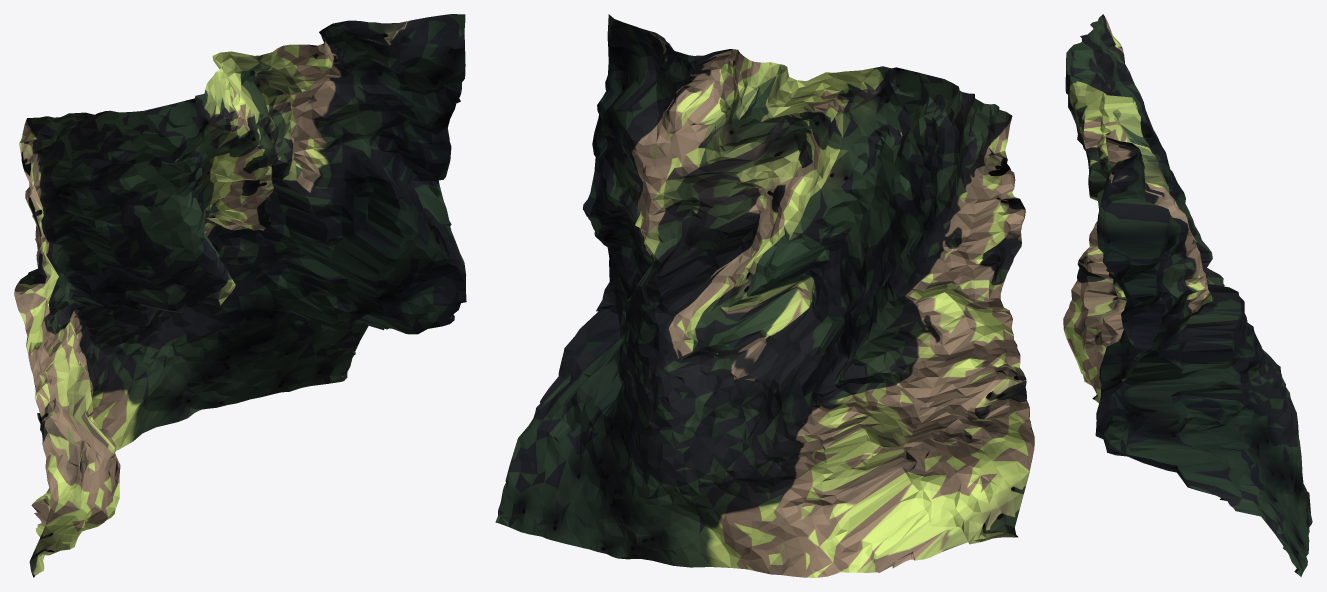
The model's file is singletile.obj.
The picture shows the model from 3 angles, left to right: view 1: azimuth 30°, elevation 25°; view 2: azimuth 150°, elevation 25°; view 3: azimuth 270°, elevation 25°; orthographic projection. The views are drawn at different scales.
Visible parts, largest first — view 1: singletile; view 2: singletile; view 3: singletile.
Boxes of the visible parts, x1,y1,x2,y2 form: singletile: [14, 14, 466, 577]; singletile: [495, 14, 1034, 577]; singletile: [1063, 14, 1312, 577].
Bounding box in the file's own units: 502 × 501 × 294.
1 material, 1 textured.
